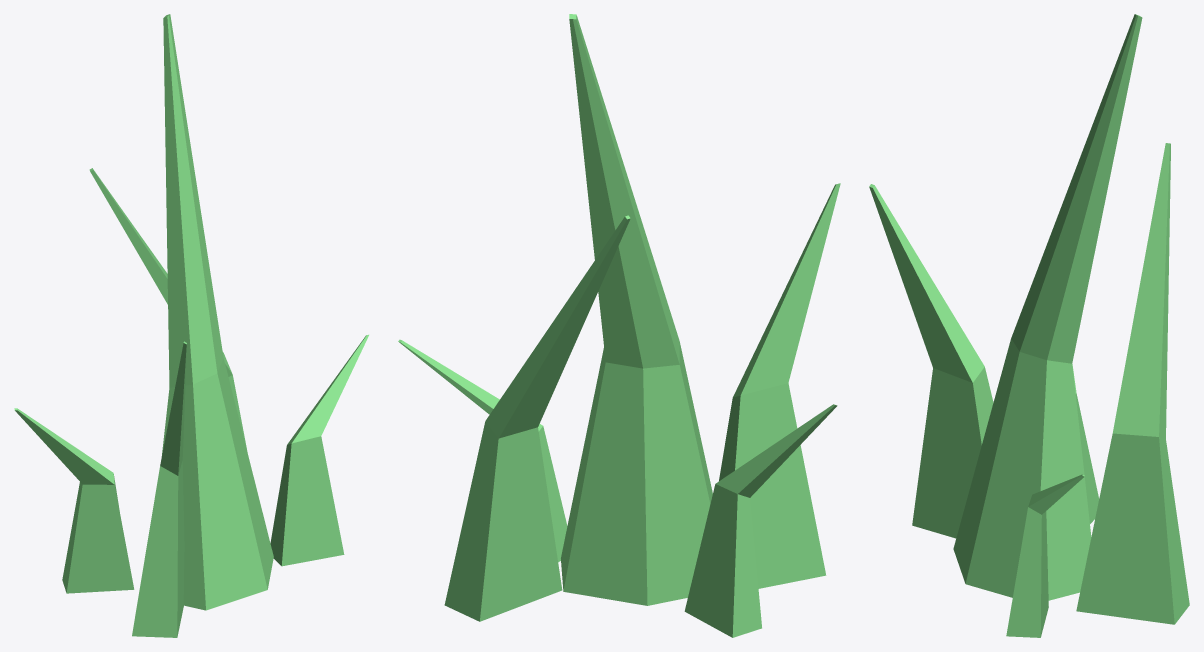
The model's file is herbe_lowpoly.fbx.
3 renders of one model, left to right at view 1: azimuth 30°, elevation 25°; view 2: azimuth 150°, elevation 25°; view 3: azimuth 270°, elevation 25°, orthographic. The views are drawn at different scales.
Parts seen in each view (by area): view 1: Cylinder.015; view 2: Cylinder.015; view 3: Cylinder.015.
Part boxes in pixels (box(x1,y1,x2,y2)): Cylinder.015: box(14, 14, 368, 637); Cylinder.015: box(398, 14, 840, 637); Cylinder.015: box(869, 14, 1189, 637).
Bounding box in the file's own units: 0.693 × 0.4878 × 0.9423.
